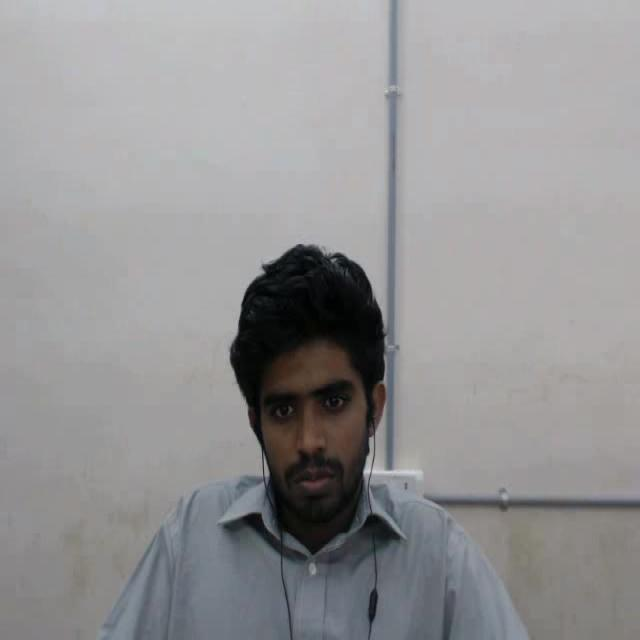Engaged: (206, 212, 415, 580)
